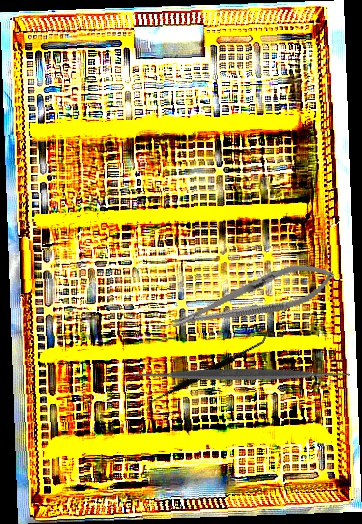Needle Holder: (165, 254, 340, 343)
Spatula Surgical: (125, 258, 359, 492), (144, 297, 269, 445)
